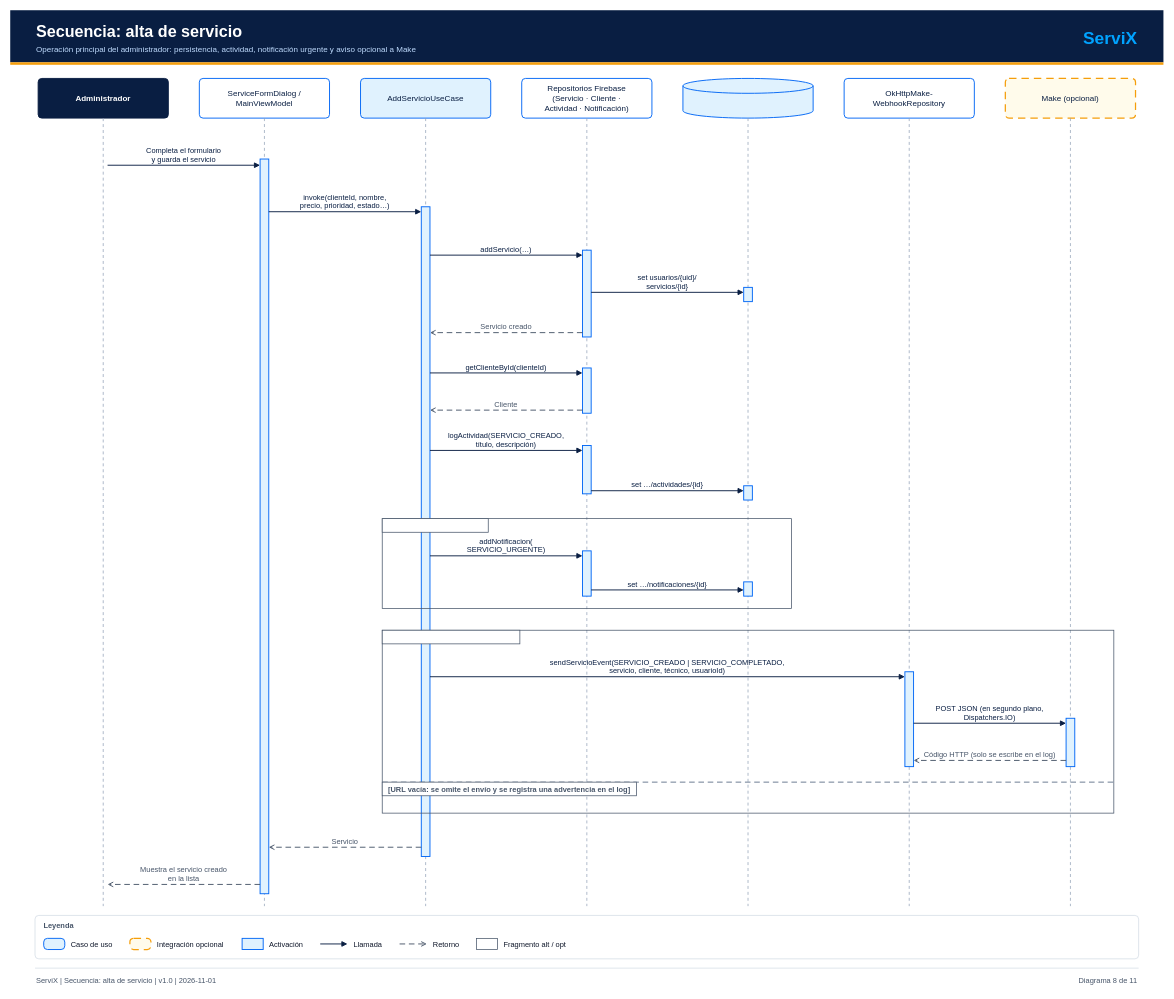
Image size: 1174x999. Some labels were removed from this diagram. The box of each missing label's shape, as (x1, y1, x2, y2) in pixels:
alt [prioridad = URGENTE]: (382, 518, 488, 532)
Cloud Firestore: (682, 78, 813, 118)
opt [URL del webhook configurada]: (382, 630, 520, 644)
